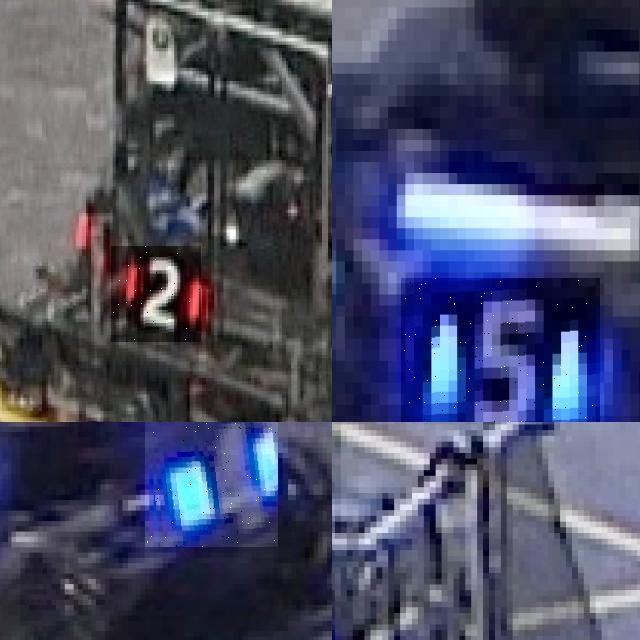B4: (144, 422, 278, 547)
B5: (401, 277, 600, 422)
R2: (111, 246, 201, 342)
